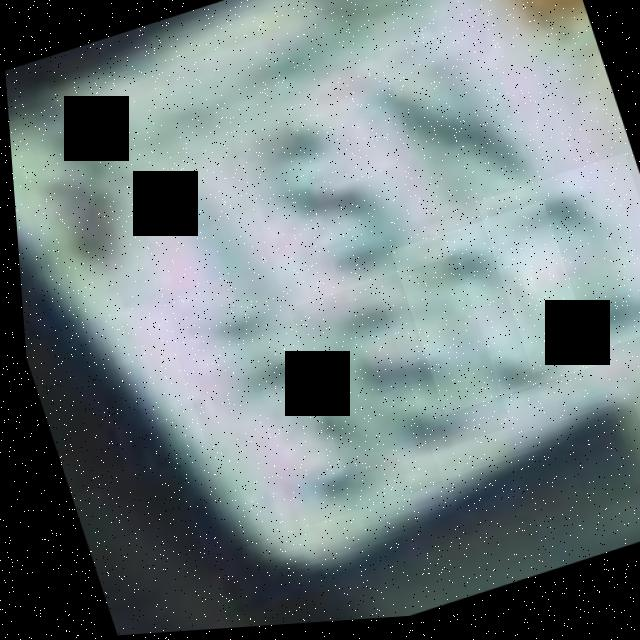2: (384, 206, 593, 422), (469, 160, 640, 382)
3: (168, 294, 437, 553)
5: (282, 258, 507, 487)
N: (330, 28, 559, 250)
T: (118, 142, 288, 360)
